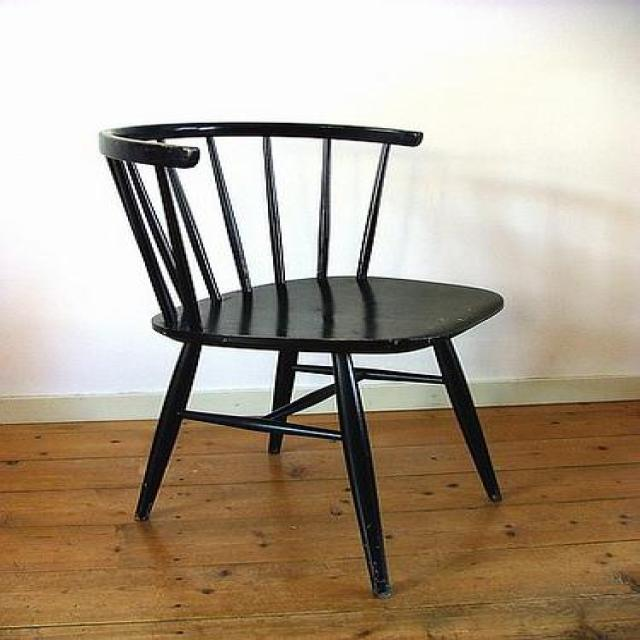chair: (96, 116, 508, 601)
